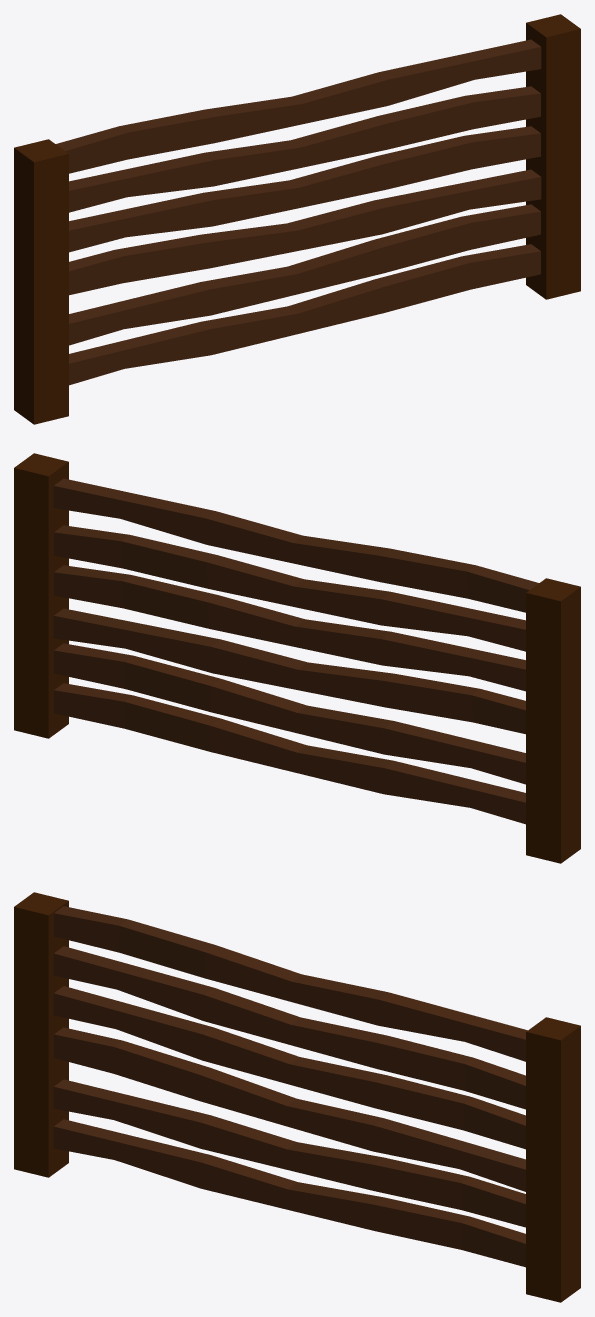
File: ZaunGross.fbx
3 views of the same model, one above another, from view 1: azimuth 30°, elevation 25°; view 2: azimuth 150°, elevation 25°; view 3: azimuth 330°, elevation 25° (orthographic).
Visible parts, largest first — view 1: Bretter, Beine; view 2: Bretter, Beine; view 3: Bretter, Beine.
Part boxes in pixels (<box>): Bretter: <box>56,39,541,385</box>; Beine: <box>14,14,580,424</box>; Bretter: <box>53,478,538,824</box>; Beine: <box>14,453,580,863</box>; Bretter: <box>53,906,527,1267</box>; Beine: <box>14,892,580,1302</box>.
Size of the model in its own units: 315 by 145 by 20.
